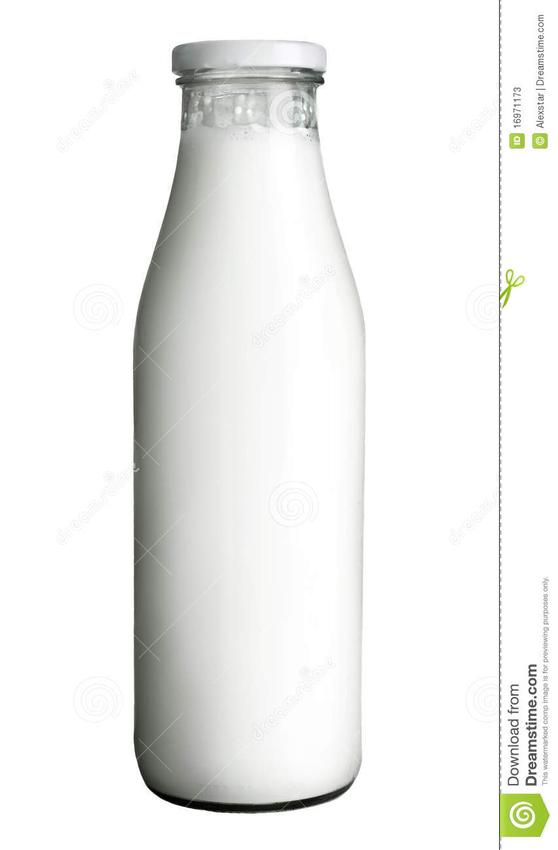milk: (99, 2, 413, 824)
